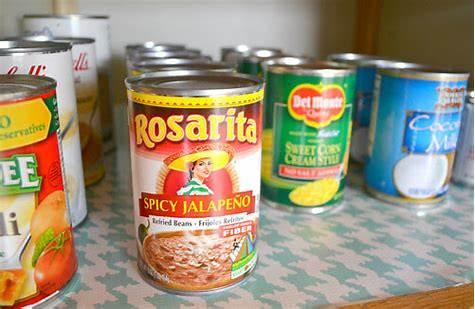metal: (127, 42, 470, 294), (0, 15, 113, 308)
